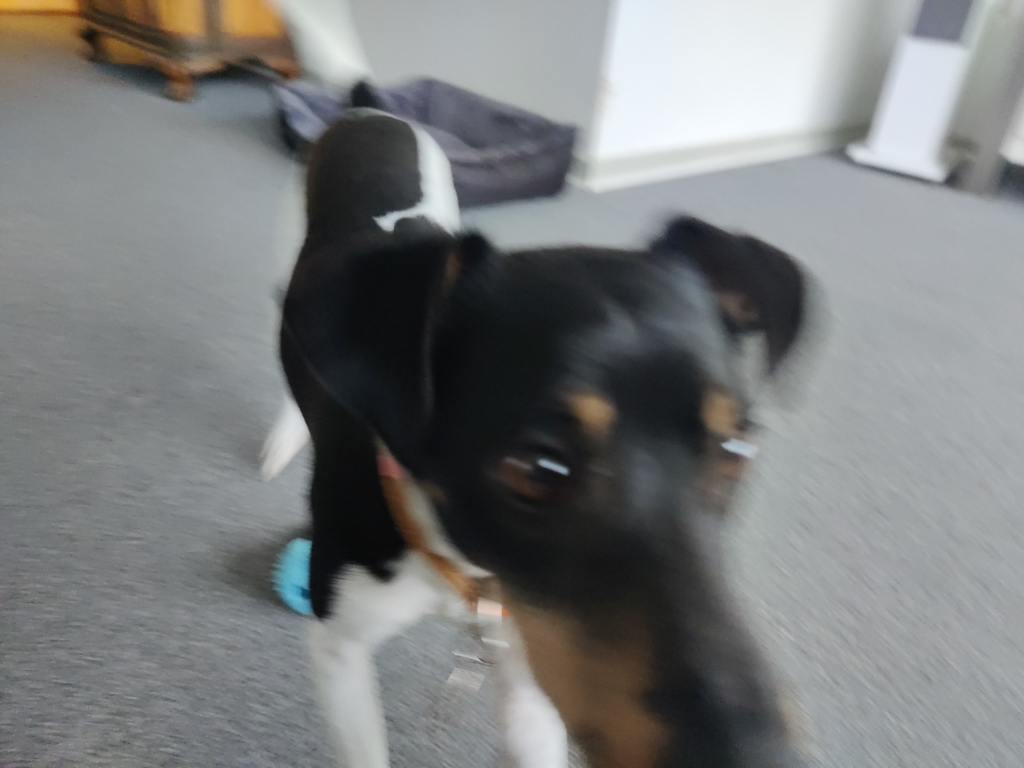Dog: (226, 0, 847, 768)
